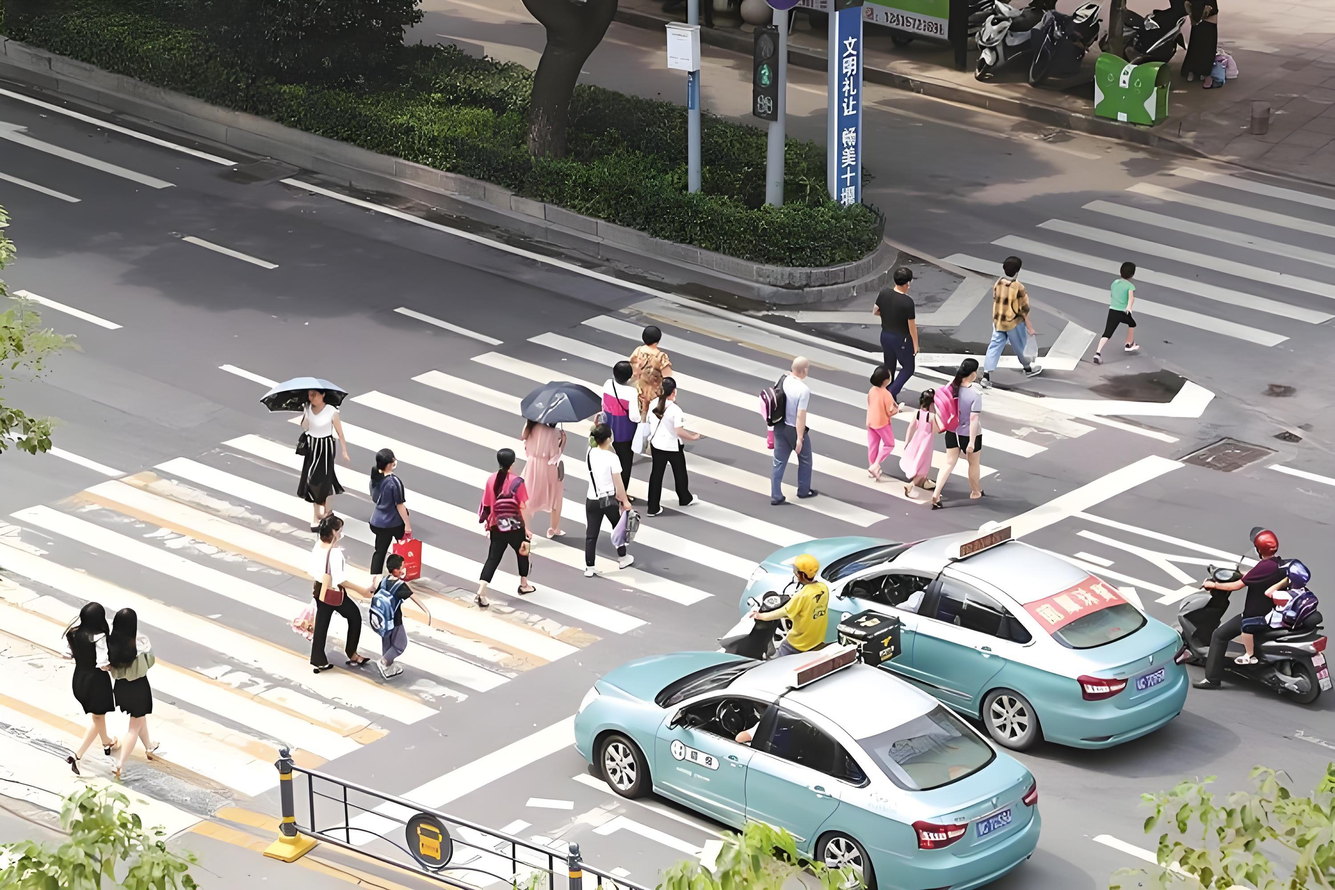car: (700, 515, 1210, 766), (579, 639, 1055, 890)
motorbike: (1179, 522, 1322, 699), (708, 566, 902, 694)
person: (37, 595, 185, 769), (311, 508, 429, 703), (514, 374, 595, 550), (486, 415, 559, 598), (249, 373, 345, 511), (597, 366, 663, 557), (347, 479, 408, 655), (928, 339, 984, 497), (864, 262, 922, 396), (886, 355, 933, 500), (989, 254, 1039, 385), (611, 307, 675, 402), (775, 365, 817, 507), (1096, 250, 1139, 348)
